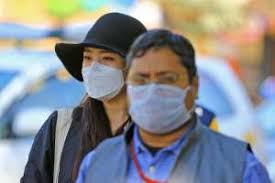mask: (125, 39, 199, 131), (83, 45, 125, 99)
